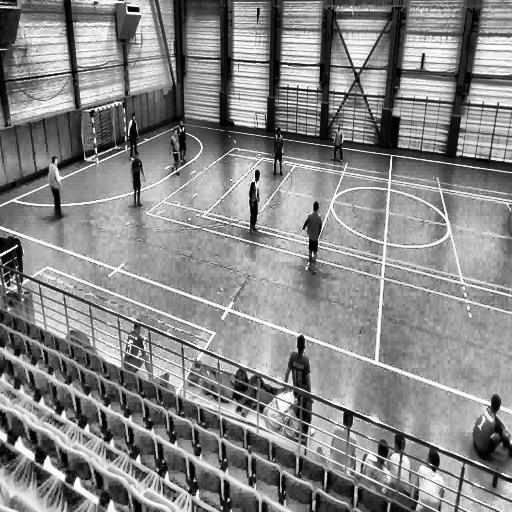player: (302, 200, 322, 275), (48, 155, 65, 222), (248, 167, 262, 237), (126, 107, 142, 162), (131, 148, 144, 210), (272, 124, 285, 176), (177, 118, 189, 167), (170, 127, 181, 178), (333, 122, 344, 162)
